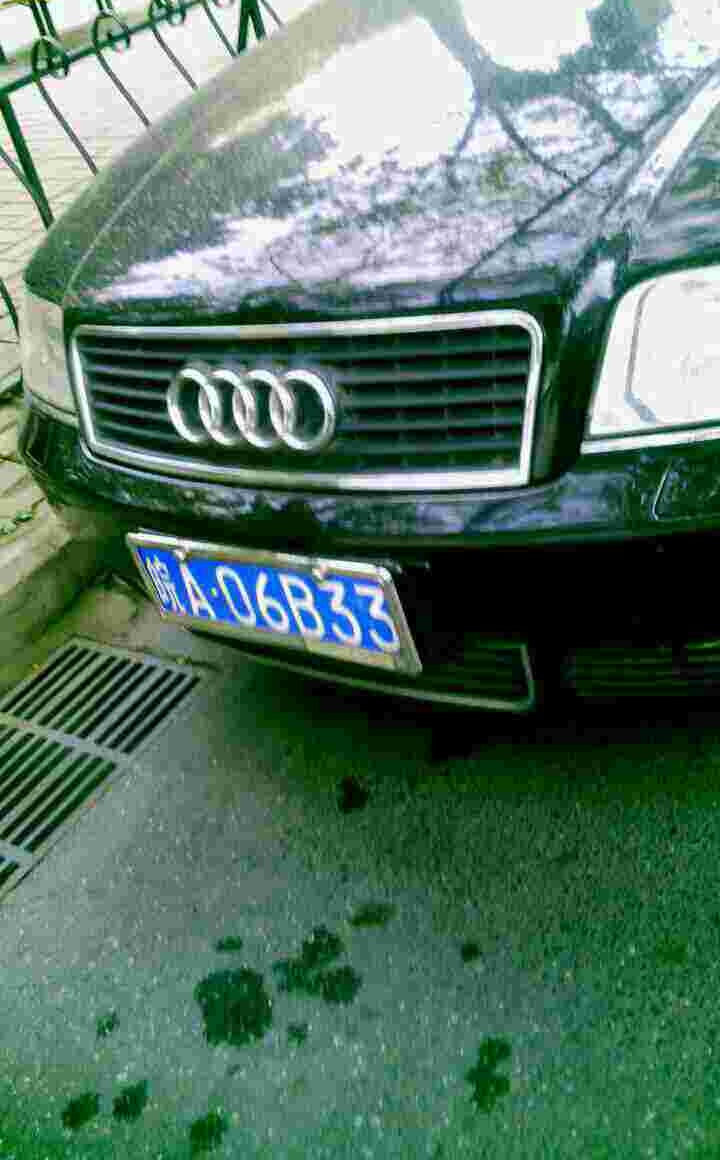license_plate: (140, 541, 400, 654)
